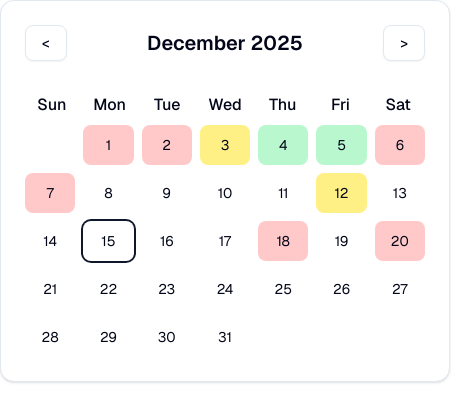
Test case: CalendarMonthView › navigates to the next month
Step 1. Click the button ">" → (404, 43), box [383,25,425,61]
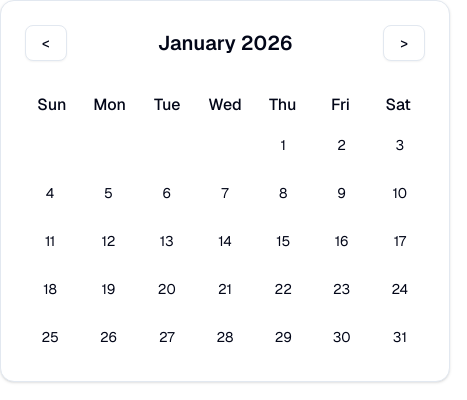
Now the text "January 2026" is shown, box [158,29,292,57]
